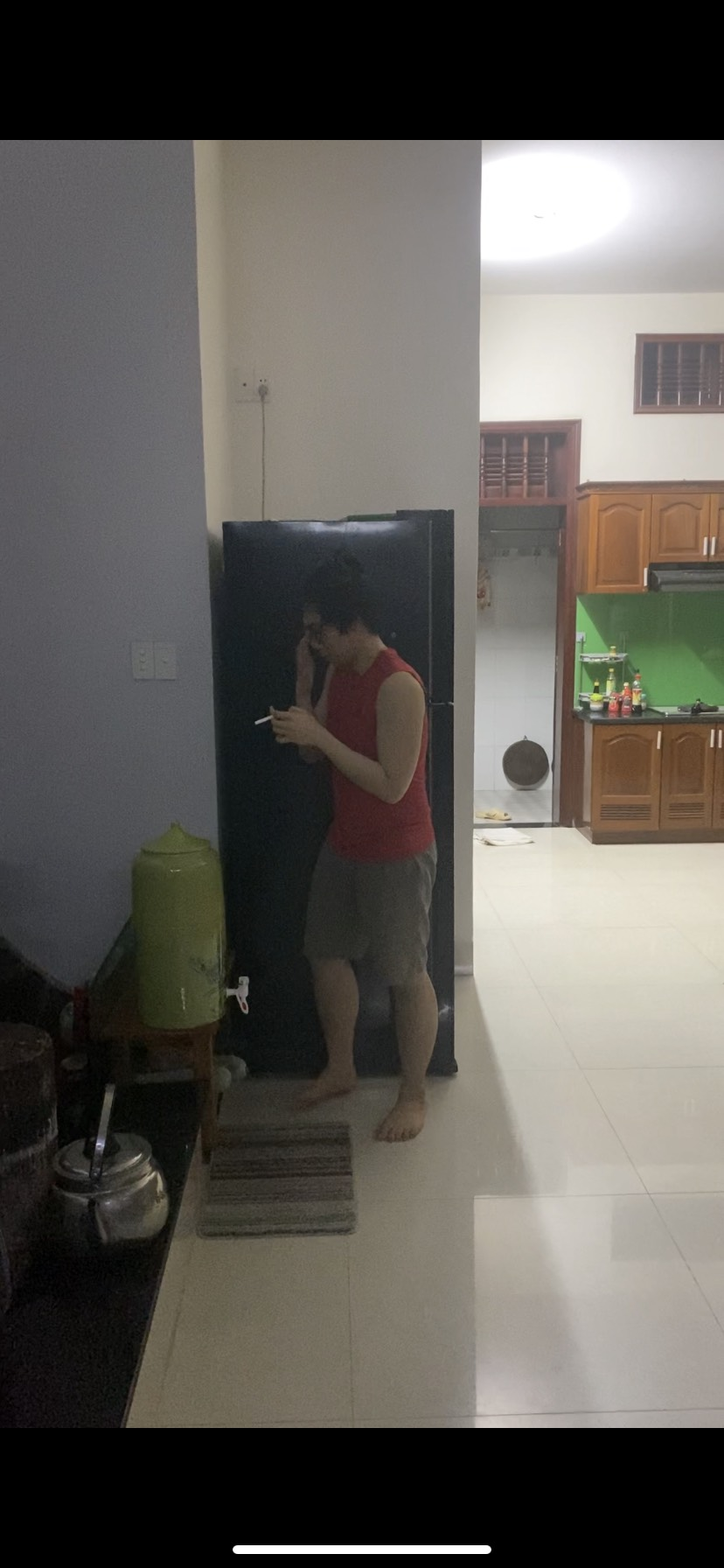cigarette: (251, 714, 274, 729)
person: (261, 564, 446, 1155)
